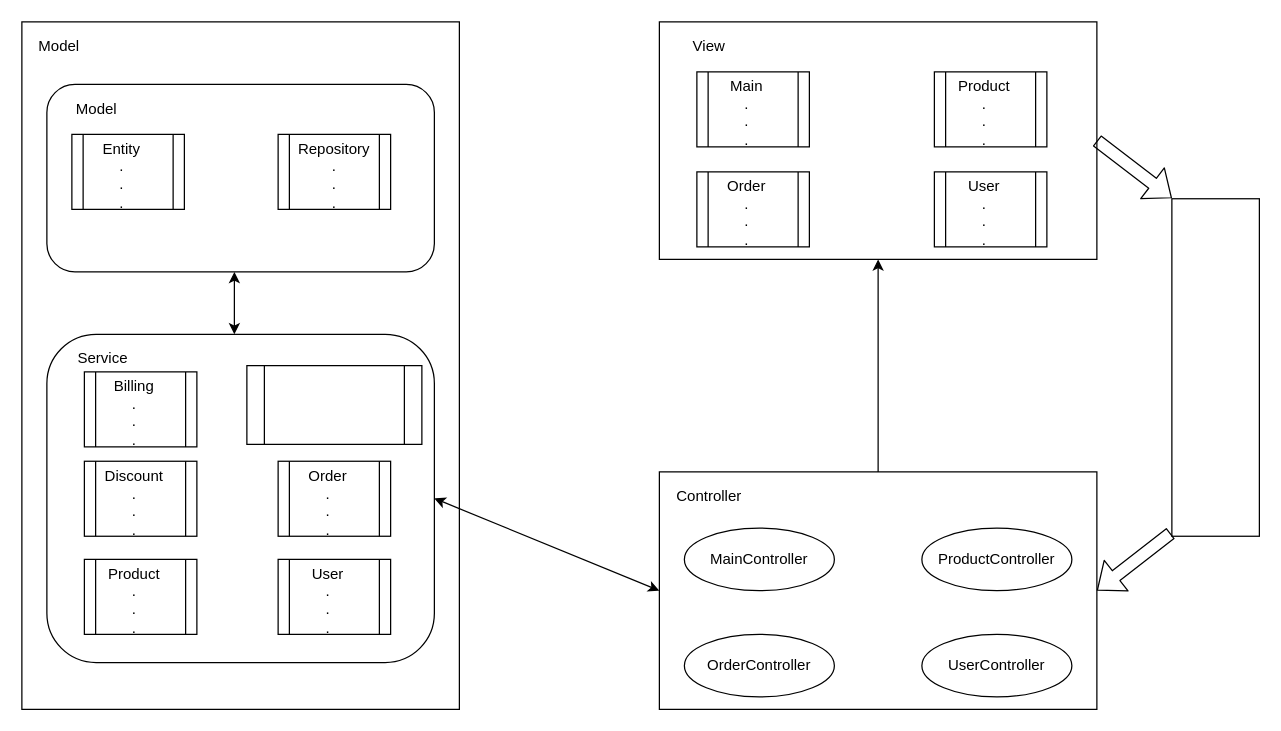
Image size: 1281x731. Some labels were removed from this diagram. Here are the shapes that lost their labels. From the top down, the box of each, then its label:
(1171, 198, 1259, 536): User
(246, 364, 422, 444): Communication . . .
